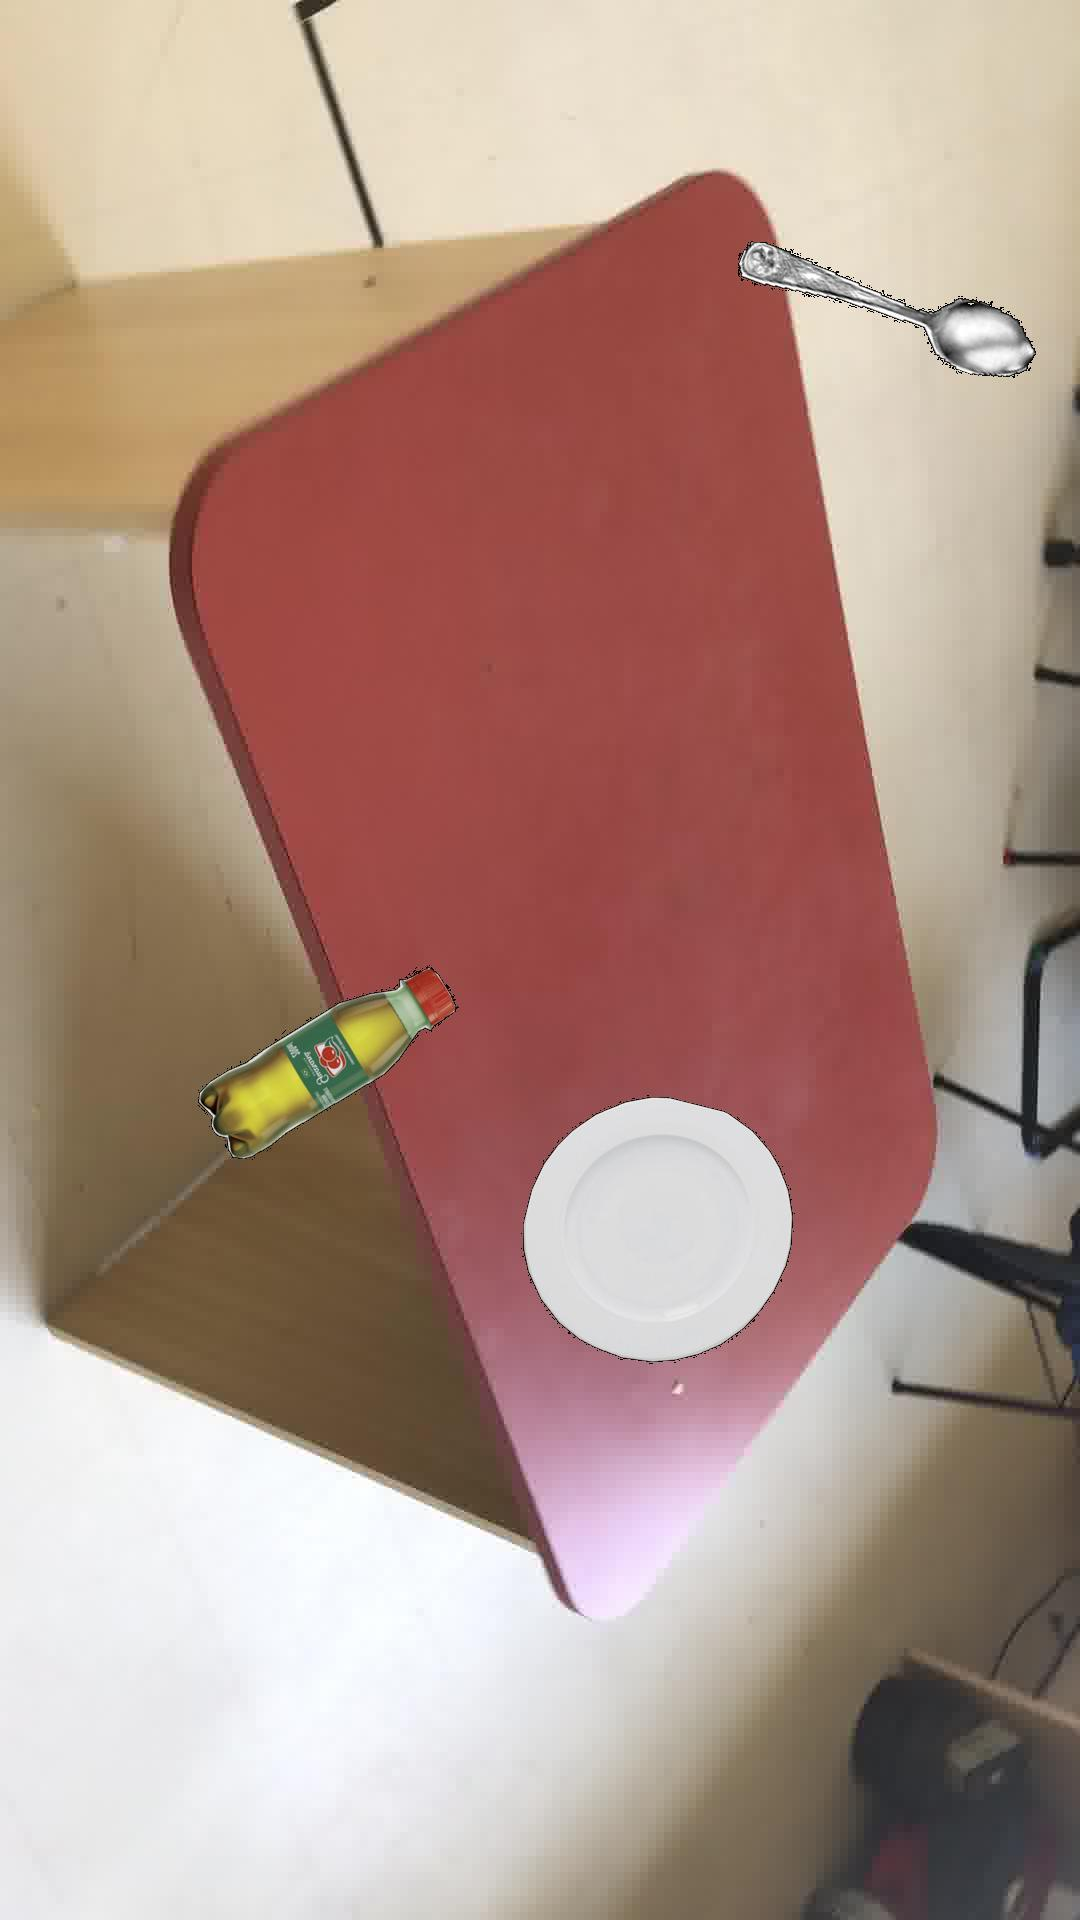guarana: (196, 964, 458, 1158)
plate: (521, 1096, 791, 1361)
spoon: (737, 240, 1034, 377)
